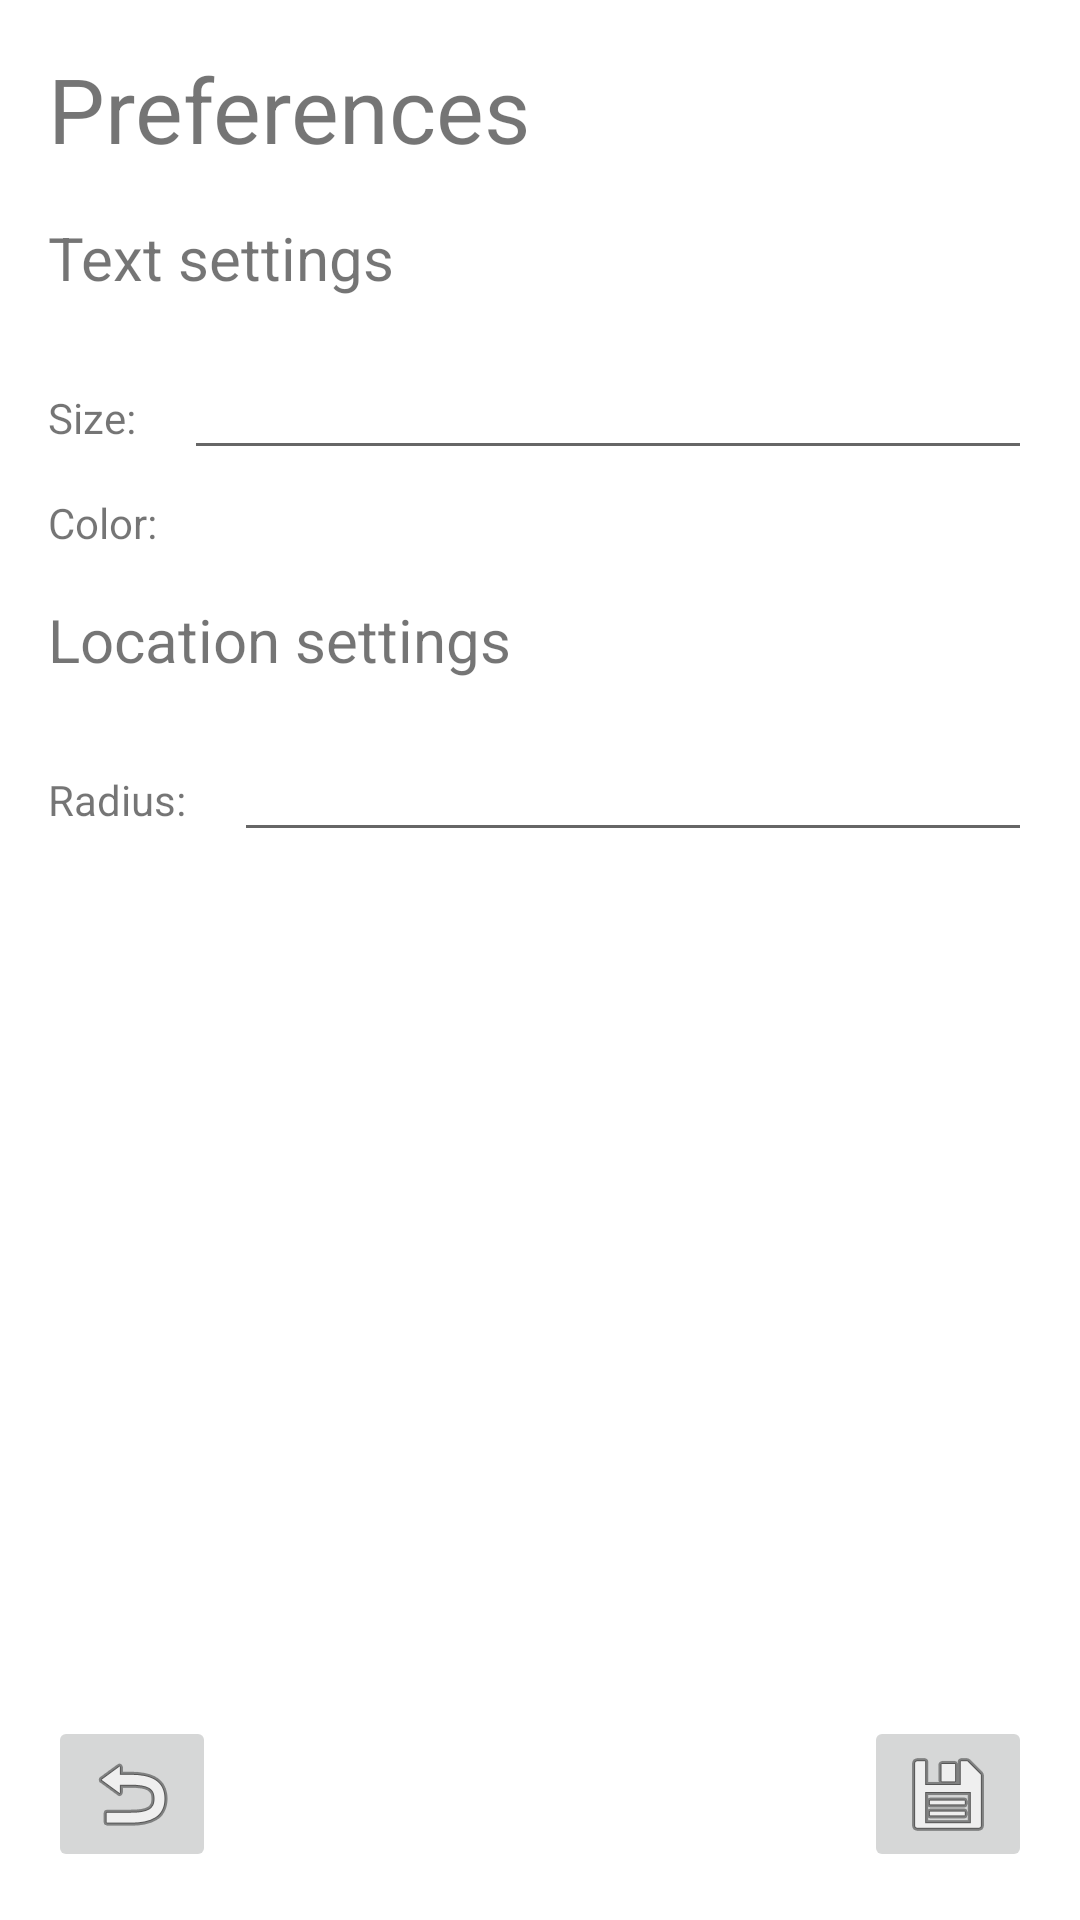

Icons on this 1080 x 1920 Android screen, each with the point to tap as (x=x, y=y):
revert: (x=132, y=1794)
save: (x=948, y=1794)
